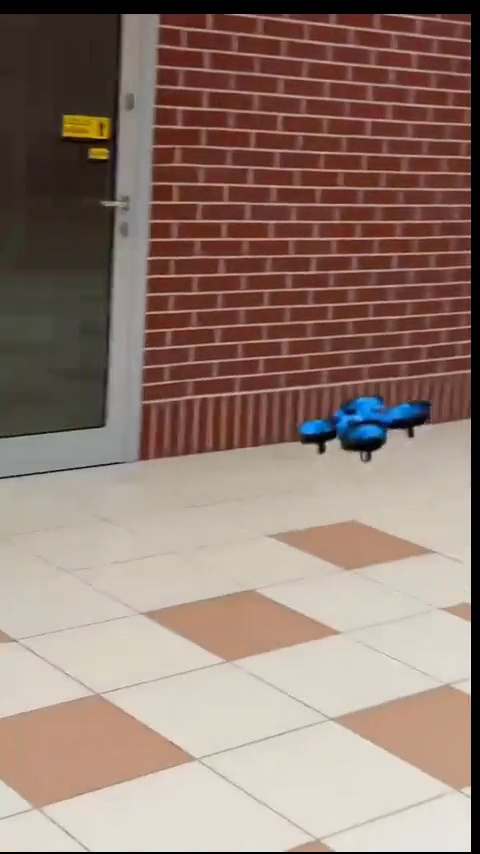drone: (299, 394, 429, 468)
